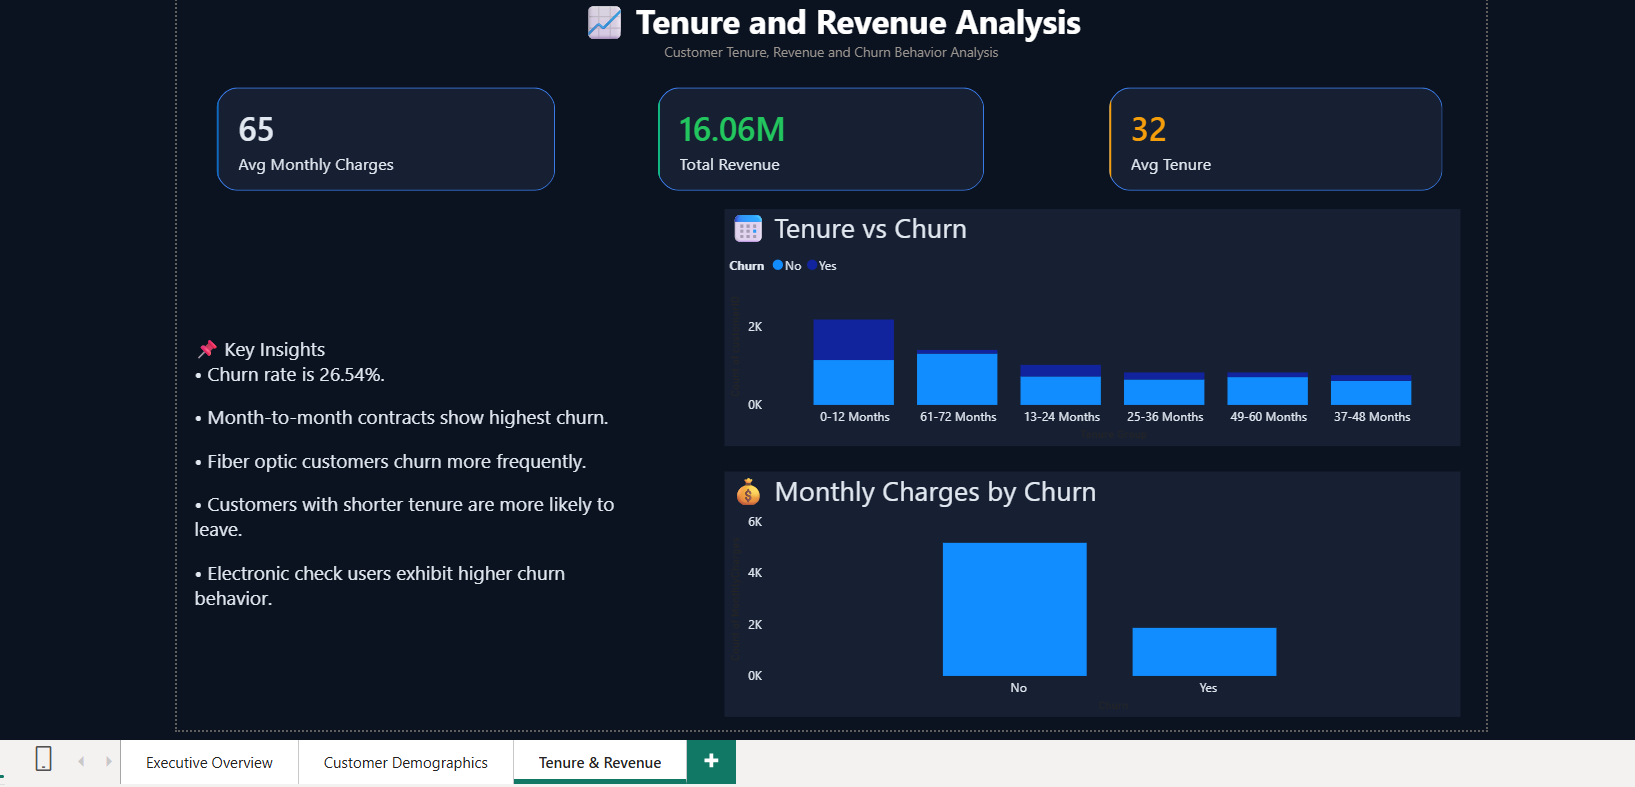

The page's visual inventory and layout, read from the dashboard file:
{"tool":"powerbi","page":{"name":"Tenure & Revenue","canvas":[1280,720],"ordinal":2},"visuals":[{"type":"columnChart","title":"📅 Tenure vs Churn","fields":{"Category":["CustomerChurn.Tenure Group"],"Y":["CountNonNull(CustomerChurn.customerID)"],"Series":["CustomerChurn.Churn"]},"box":[535,210,720,231.7],"z":0},{"type":"cardVisual","fields":{"Data":["CustomerChurn.Total Revenue"]},"box":[453.3,75,353.3,135],"z":1000},{"type":"clusteredColumnChart","title":"💰 Monthly Charges by Churn","fields":{"Category":["CustomerChurn.Churn"],"Y":["CountNonNull(CustomerChurn.MonthlyCharges)"]},"box":[535,466.7,720,240],"z":2000},{"type":"textbox","box":[11.7,328.3,441.7,336.7],"z":3000},{"type":"cardVisual","fields":{"Data":["CustomerChurn.Avg Tenure"]},"box":[895,75,360,135],"z":4000},{"type":"cardVisual","fields":{"Data":["CustomerChurn.Avg Monthly Charges"]},"box":[21.7,75,365,135],"z":5000},{"type":"textbox","box":[0,0,1280.3,69.7],"z":6000}]}

Visuals, with their boxes on the page's 1280x720 design canvas (x1, y1, x2, y2). These are canvas units, not pixel positions in the 1635x787 screenshot, which may show the page scaled, cropped or inside an application window:
"📅 Tenure vs Churn" columnChart: [535,210,1255,442]
cardVisual - CustomerChurn.Total Revenue: [453,75,807,210]
"💰 Monthly Charges by Churn" clusteredColumnChart: [535,467,1255,707]
textbox: [12,328,453,665]
cardVisual - CustomerChurn.Avg Tenure: [895,75,1255,210]
cardVisual - CustomerChurn.Avg Monthly Charges: [22,75,387,210]
textbox: [0,0,1280,70]
